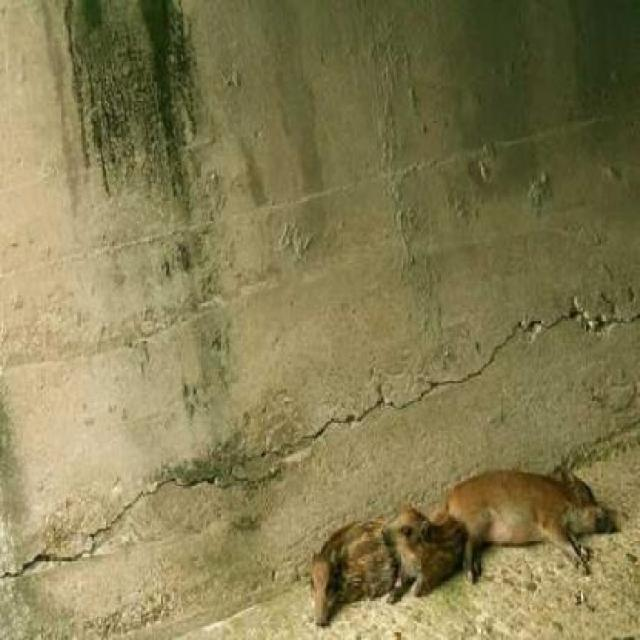pig: (288, 488, 432, 594)
